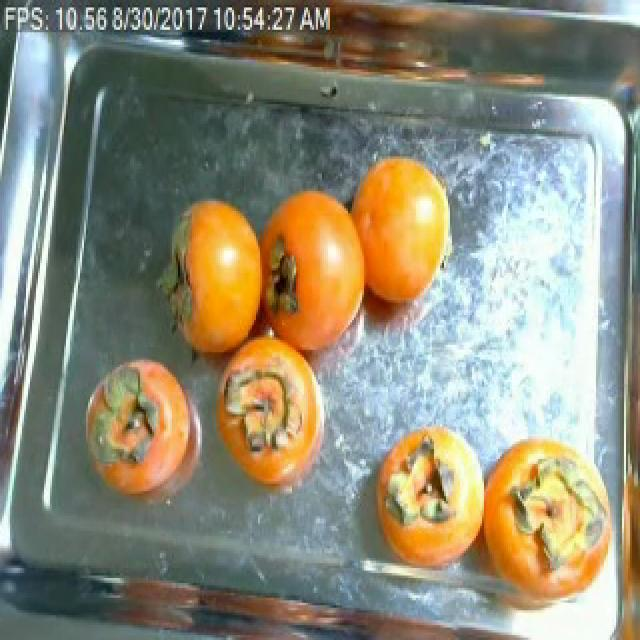Fruit: (338, 141, 466, 320), (78, 345, 208, 513), (162, 186, 282, 365), (370, 414, 488, 536)
